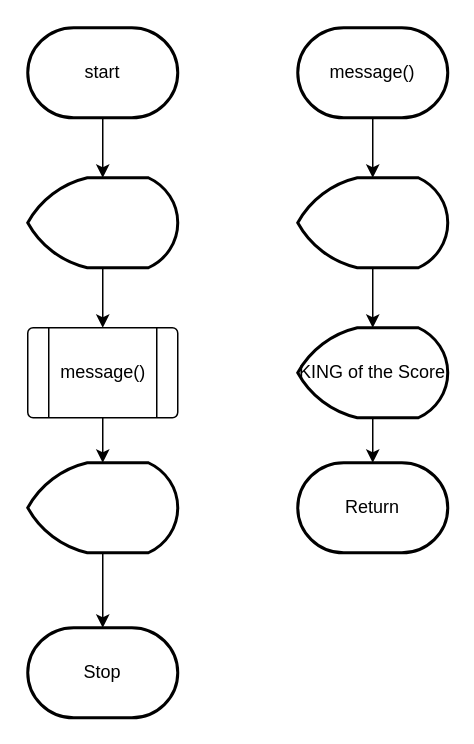
The diagram is 474 pixels wide and 744 high, and some of its shapes have lost their labels. Here are the shapes that lost their labels. From the top down, the centre of each, then its label:
pixel 102 222: I have a message for you
pixel 372 222: I am Attakon
pixel 102 507: "Goodbye"
